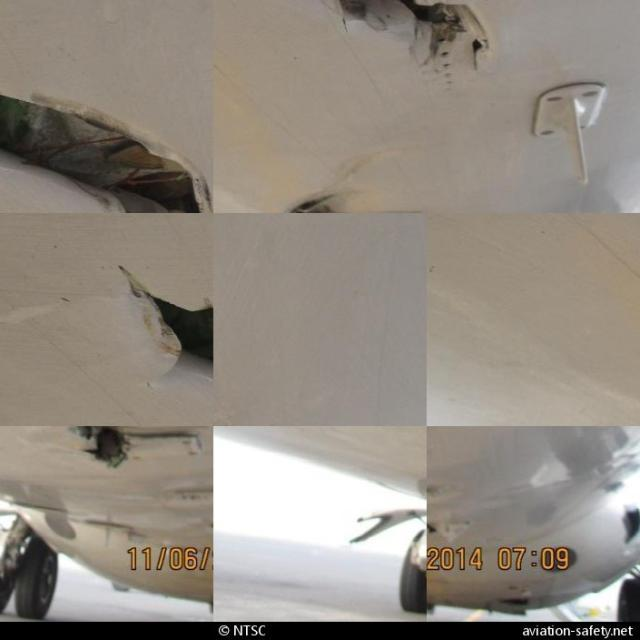crack: (115, 261, 215, 386)
